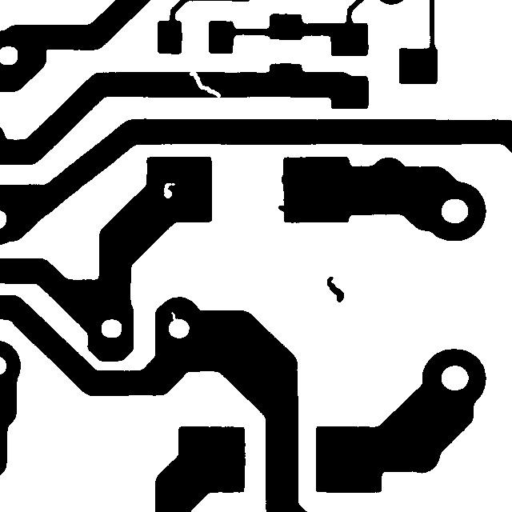copper: (319, 269, 351, 310)
mousebite: (163, 304, 186, 328)
open: (182, 64, 228, 105)
pin-hole: (156, 175, 182, 206)
spur: (270, 198, 297, 218)
